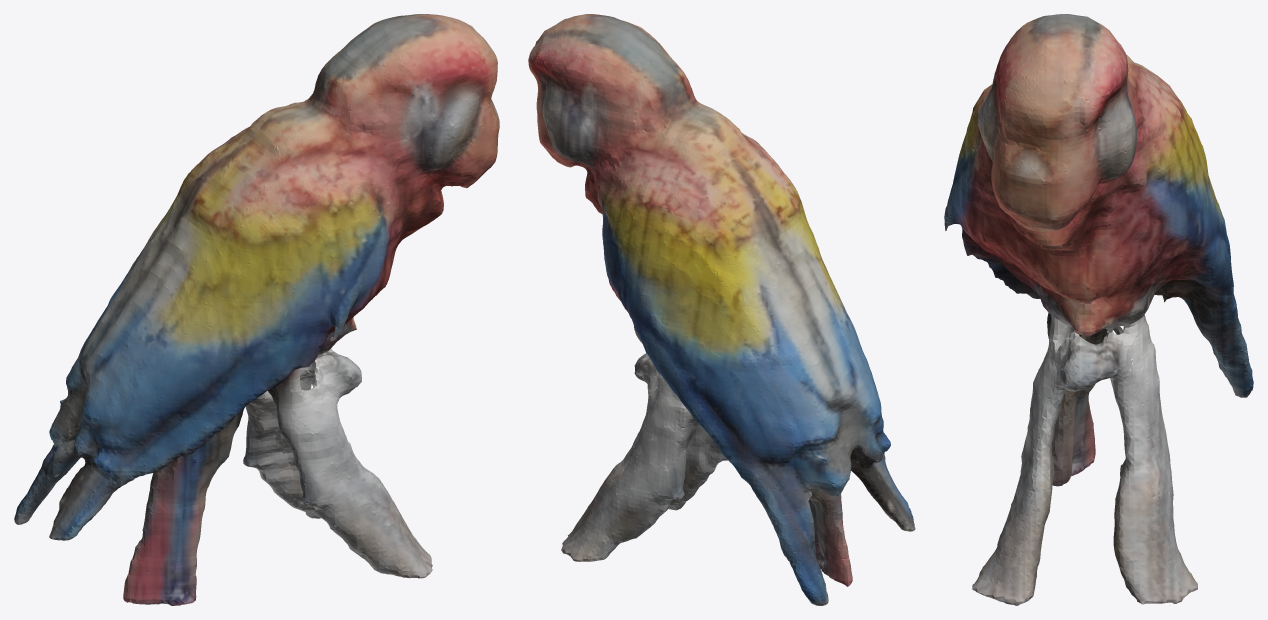
Rendered from instant_mesh.glb.
The picture shows the model from 3 angles, left to right: view 1: azimuth 30°, elevation 25°; view 2: azimuth 150°, elevation 25°; view 3: azimuth 270°, elevation 25°; orthographic projection. The views are drawn at different scales.
Visible parts, largest first — view 1: world; view 2: world; view 3: world.
Part boxes in pixels (<box>): world: <box>14,14,499,605</box>; world: <box>528,14,915,605</box>; world: <box>944,14,1253,605</box>.
Bounding box in the file's own units: 1.63 × 1.93 × 0.929.
